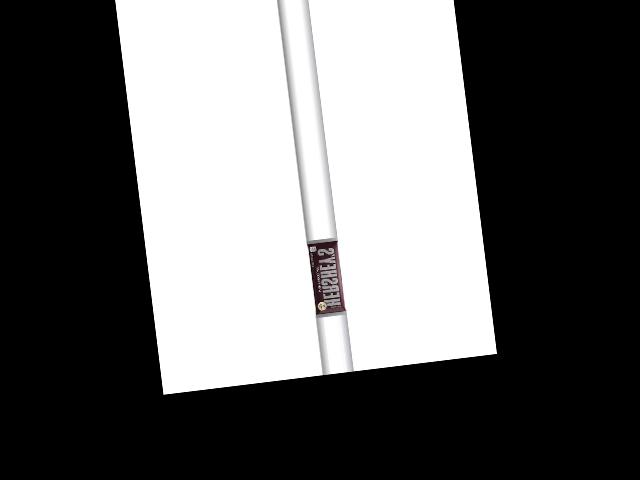chocolate: (303, 237, 345, 317)
